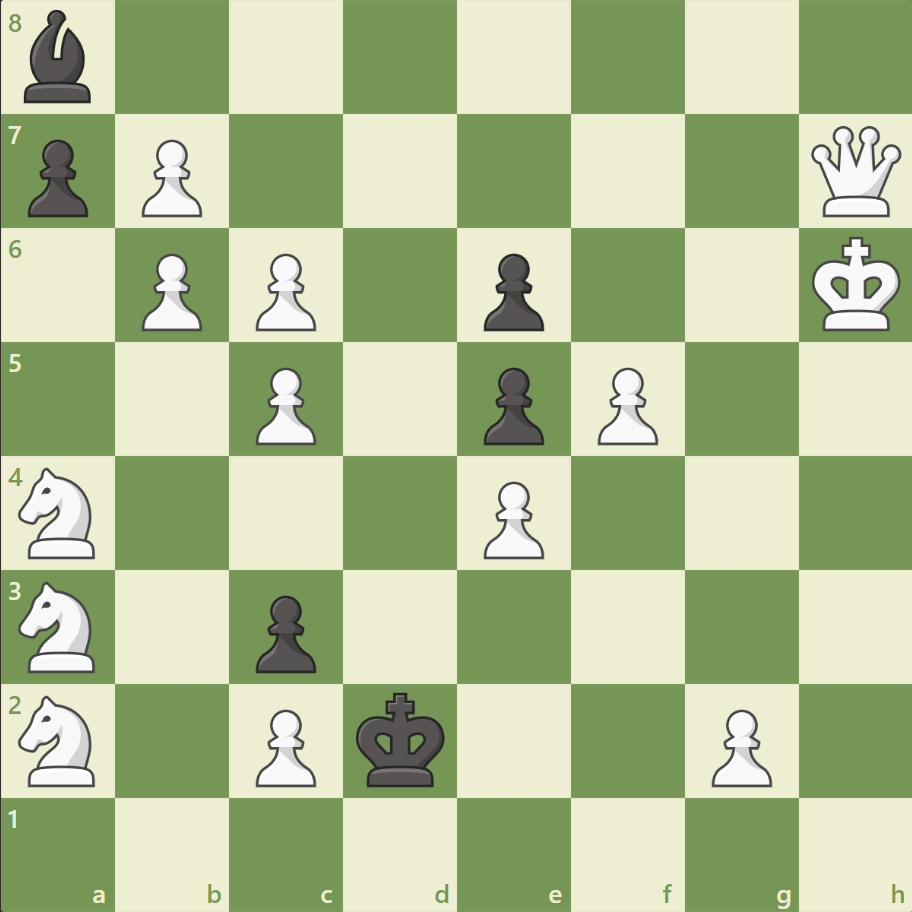K: (806, 231, 906, 339)
N: (11, 461, 108, 564), (11, 688, 108, 791), (11, 575, 108, 677)
P: (133, 132, 208, 223), (133, 246, 208, 337), (247, 246, 322, 337), (247, 359, 322, 450), (474, 473, 549, 564), (247, 700, 322, 791), (701, 700, 776, 791), (588, 359, 662, 450)
Q: (805, 122, 904, 222)
b: (17, 6, 101, 109)
k: (351, 685, 451, 793)
p: (20, 132, 95, 223), (474, 246, 549, 337), (474, 359, 549, 450), (247, 586, 322, 677)
